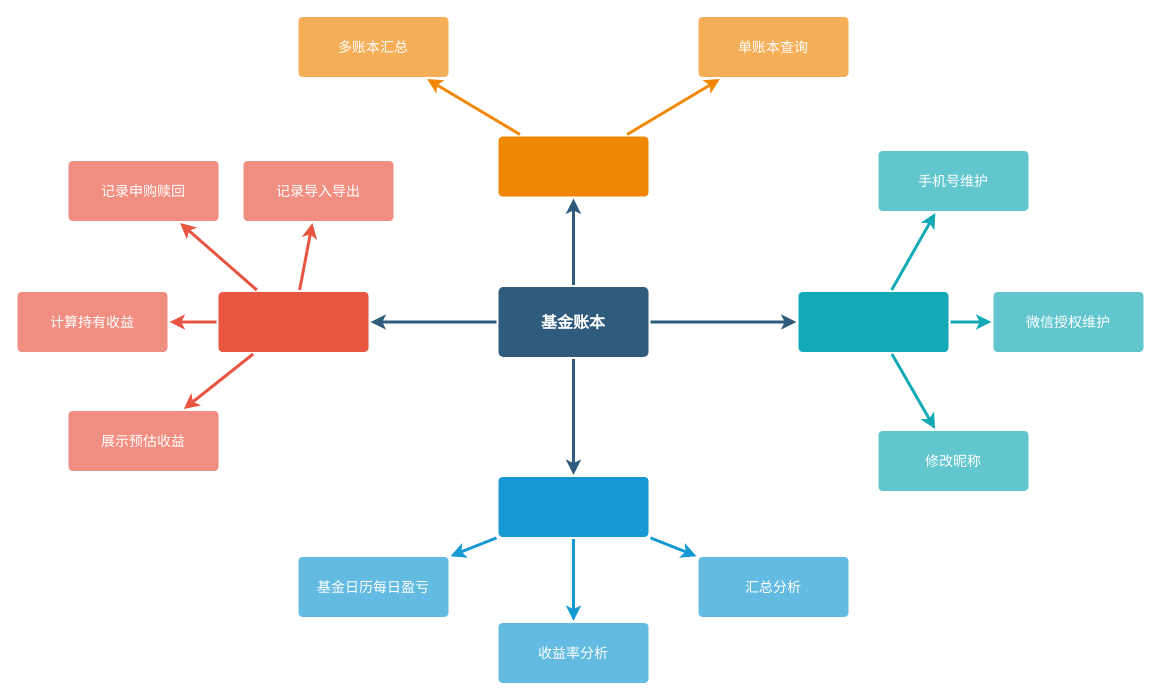
The diagram is 1160 pixels wide and 700 high, and some of its shapes have lost their labels. Here are the shapes that lost their labels. From the top down, the box of each, then its label:
(498, 136, 648, 196): 账本
(218, 292, 368, 352): 账本内基金
(798, 292, 948, 352): 用户管理
(498, 476, 648, 536): 统计
